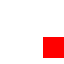square: (43, 37, 63, 57)
